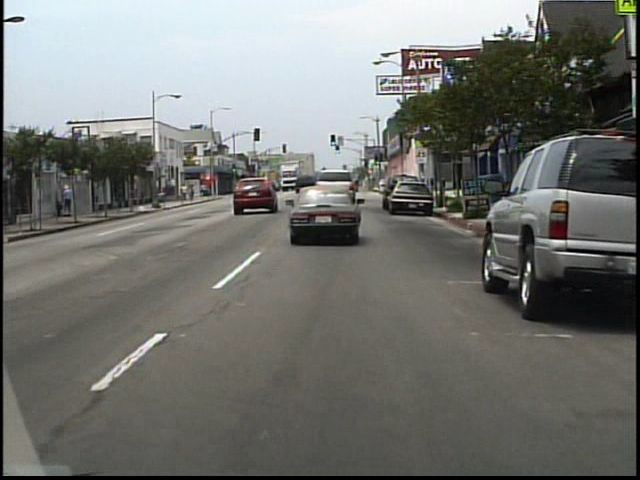person: (64, 183, 76, 217)
